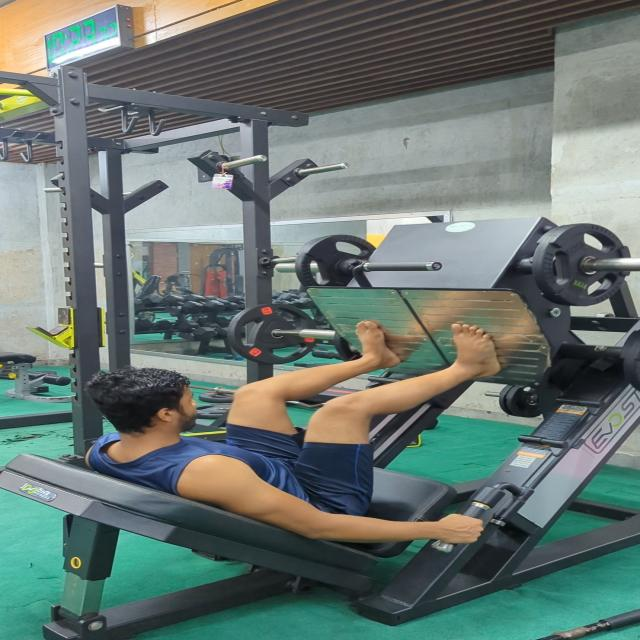Normal_LegPress: (48, 307, 510, 558)
